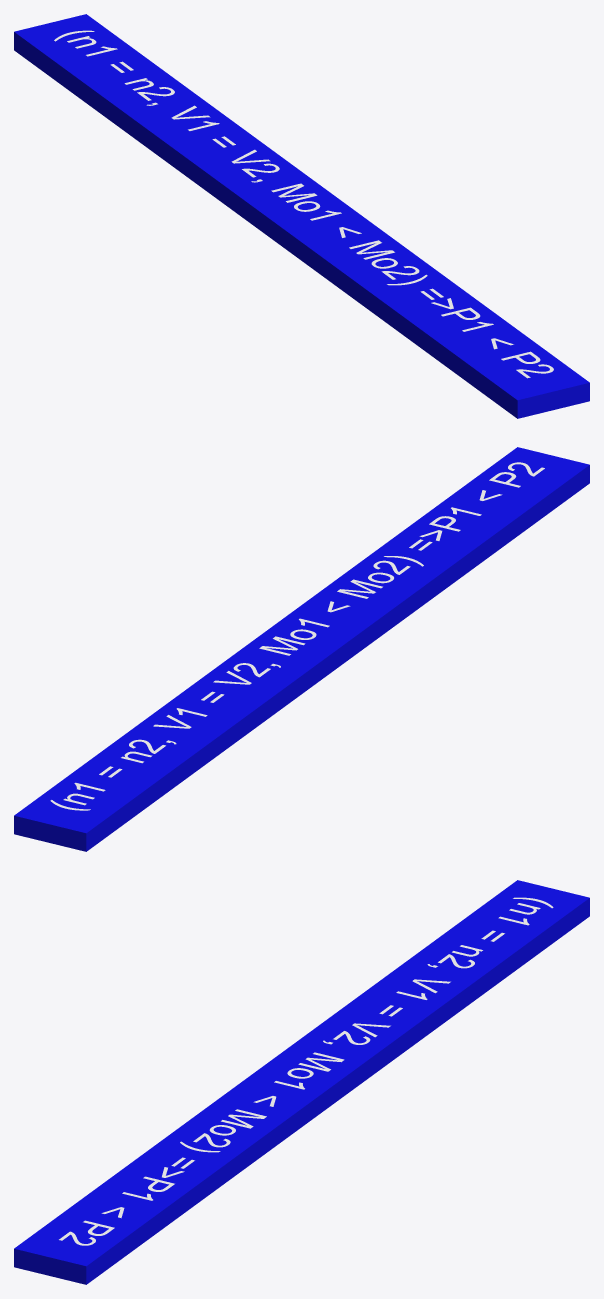
The model's file is massa1.FBX.
3 views of the same model, one above another, from view 1: azimuth 30°, elevation 25°; view 2: azimuth 150°, elevation 25°; view 3: azimuth 330°, elevation 25° (orthographic).
Parts seen in each view (by area): view 1: Text001; view 2: Text001; view 3: Text001.
Part boxes in pixels (x1=…): Text001: x1=14, y1=14, x2=589, y2=418; Text001: x1=14, y1=447, x2=589, y2=851; Text001: x1=14, y1=880, x2=589, y2=1284.
Bounding box in the file's own units: 25.83 × 7.23 × 311.
